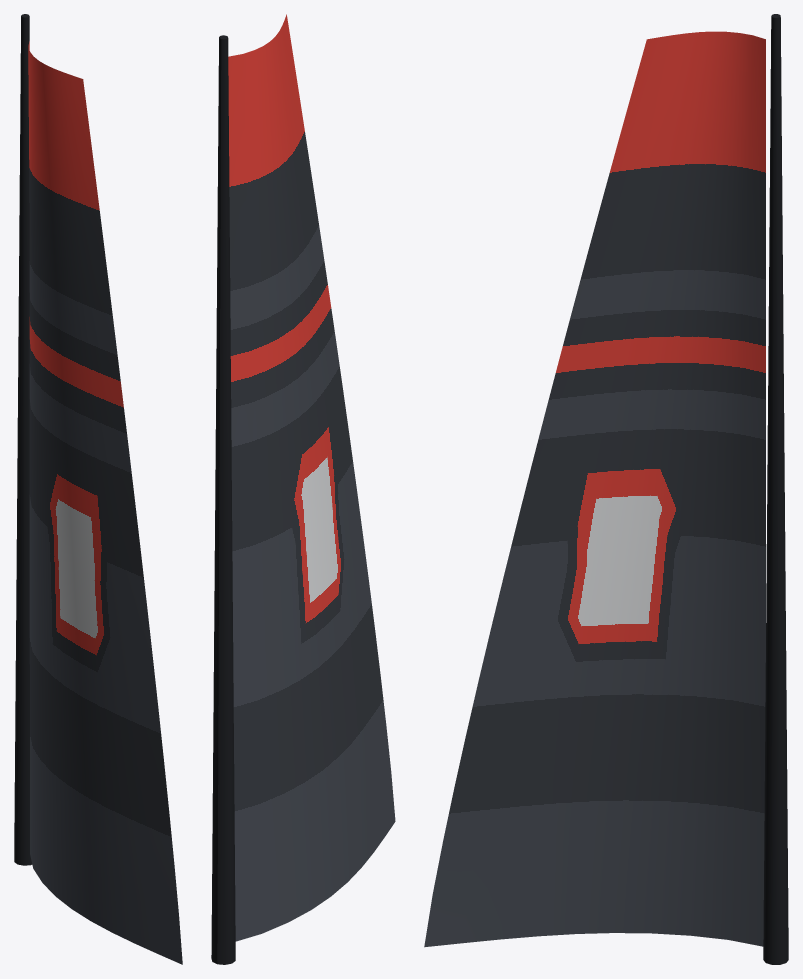
Rendered from rig_1_p.glb.
3 renders of one model, left to right at view 1: azimuth 30°, elevation 25°; view 2: azimuth 150°, elevation 25°; view 3: azimuth 270°, elevation 25°, orthographic. The views are drawn at different scales.
Visible parts, largest first — view 1: rig_1_p_body; view 2: rig_1_p_body; view 3: rig_1_p_body.
Boxes of the visible parts, x1,y1,x2,y2 form: rig_1_p_body: [14, 14, 182, 964]; rig_1_p_body: [211, 14, 395, 964]; rig_1_p_body: [424, 14, 788, 964].
Bounding box in the file's own units: 1.15 × 26.2 × 9.17.
Materials: 1 (1 with a texture image).
